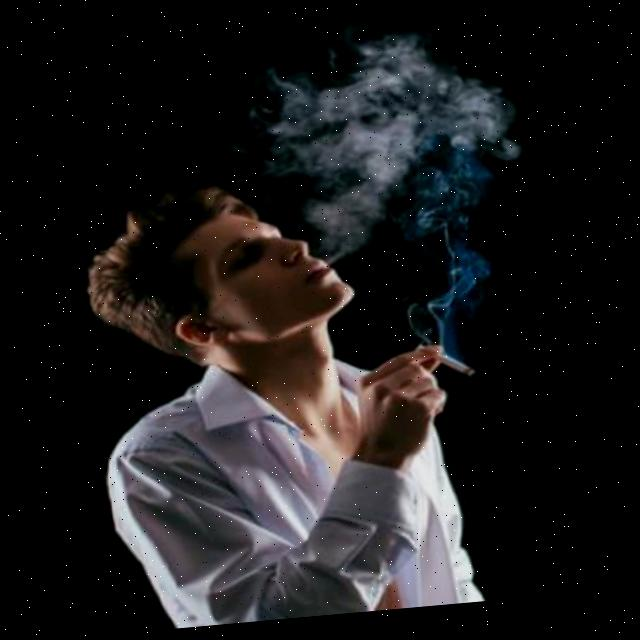cigarette: (430, 357, 473, 389)
